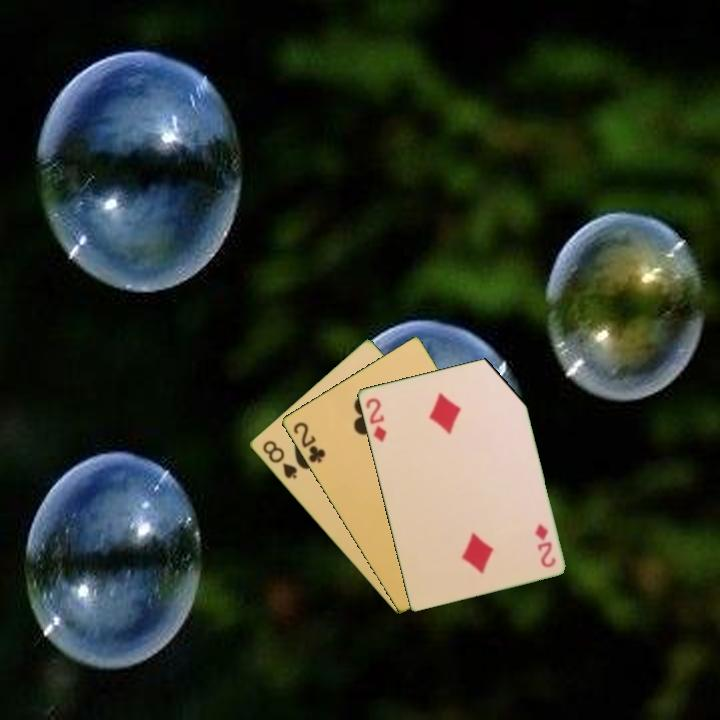2c: (289, 418, 328, 466)
2d: (362, 394, 389, 445), (531, 520, 558, 570)
8s: (259, 437, 300, 482)
